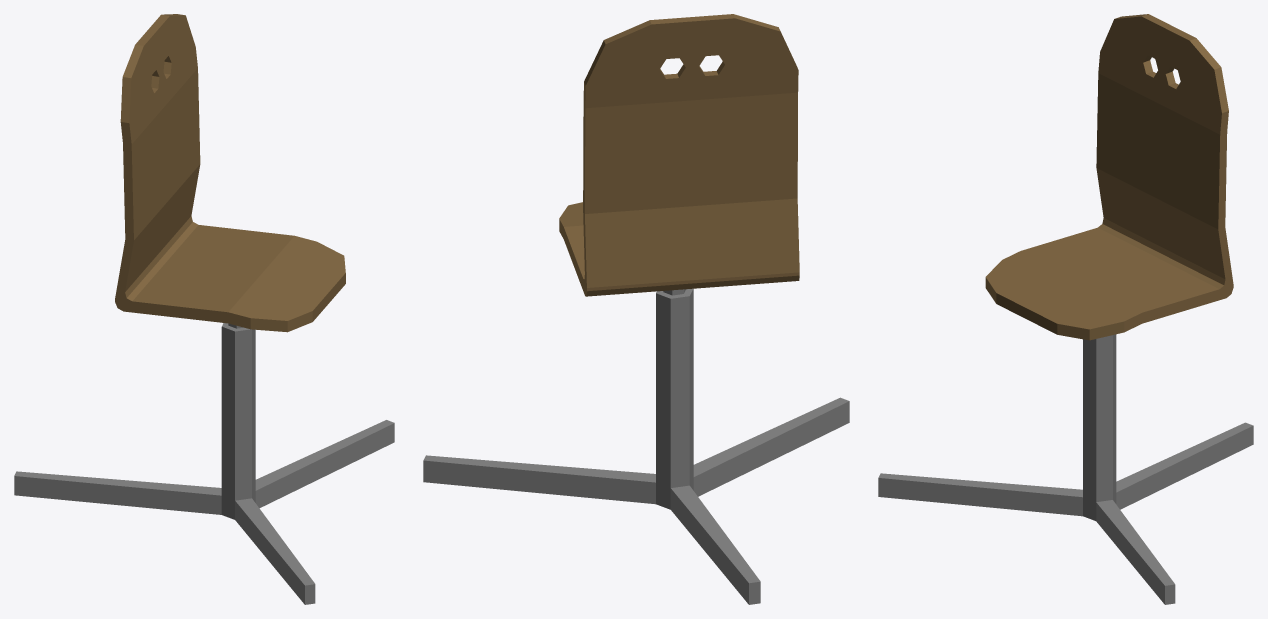
The model's file is bureaustoel.fbx.
3 views of the same model, side by side, from view 1: azimuth 30°, elevation 25°; view 2: azimuth 150°, elevation 25°; view 3: azimuth 270°, elevation 25° (orthographic). The views are drawn at different scales.
Visible parts, largest first — view 1: Stoel basis; view 2: Stoel basis; view 3: Stoel basis.
Boxes of the visible parts, x1=… form: Stoel basis: x1=14, y1=14, x2=394, y2=604; Stoel basis: x1=423, y1=14, x2=849, y2=604; Stoel basis: x1=878, y1=14, x2=1253, y2=604.
Size of the model in its own units: 66.04 by 87.1 by 64.05.
